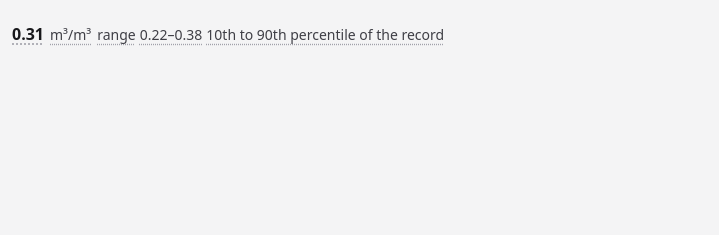
SourcedNumber › opens and closes the source panel from the chip
Expected: the text "SMAP L4 root zone soil moisture" is not shown
What coordinates should you click on to do the following:
click the button with aria-label "Source: model estimate"
I would click on:
 (228, 34)
Its box is [12, 12, 444, 56].
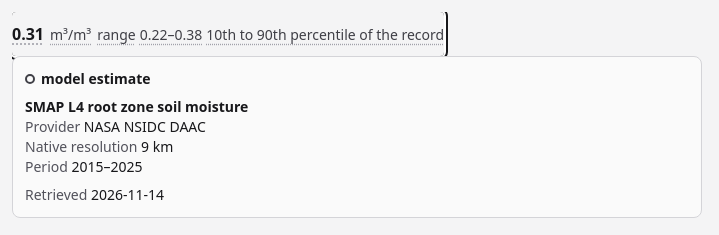
Now the text "SMAP L4 root zone soil moisture" is shown, box [25, 97, 248, 116]
Now the text "NASA NSIDC DAAC" is shown, box [84, 117, 206, 136]
Now the text "9 km" is shown, box [141, 137, 173, 156]
What coordinates should you click on to do the following:
click the button with aria-label "Source: model estimate"
I would click on:
 (228, 34)
Its box is [12, 12, 444, 56].
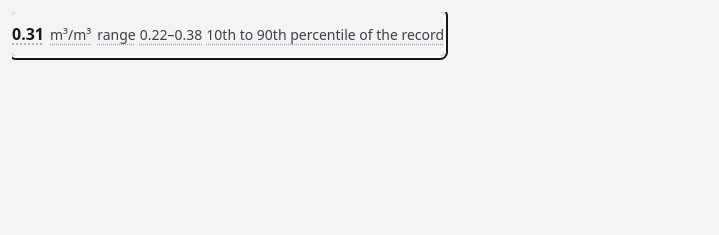
Now the text "SMAP L4 root zone soil moisture" is gone
